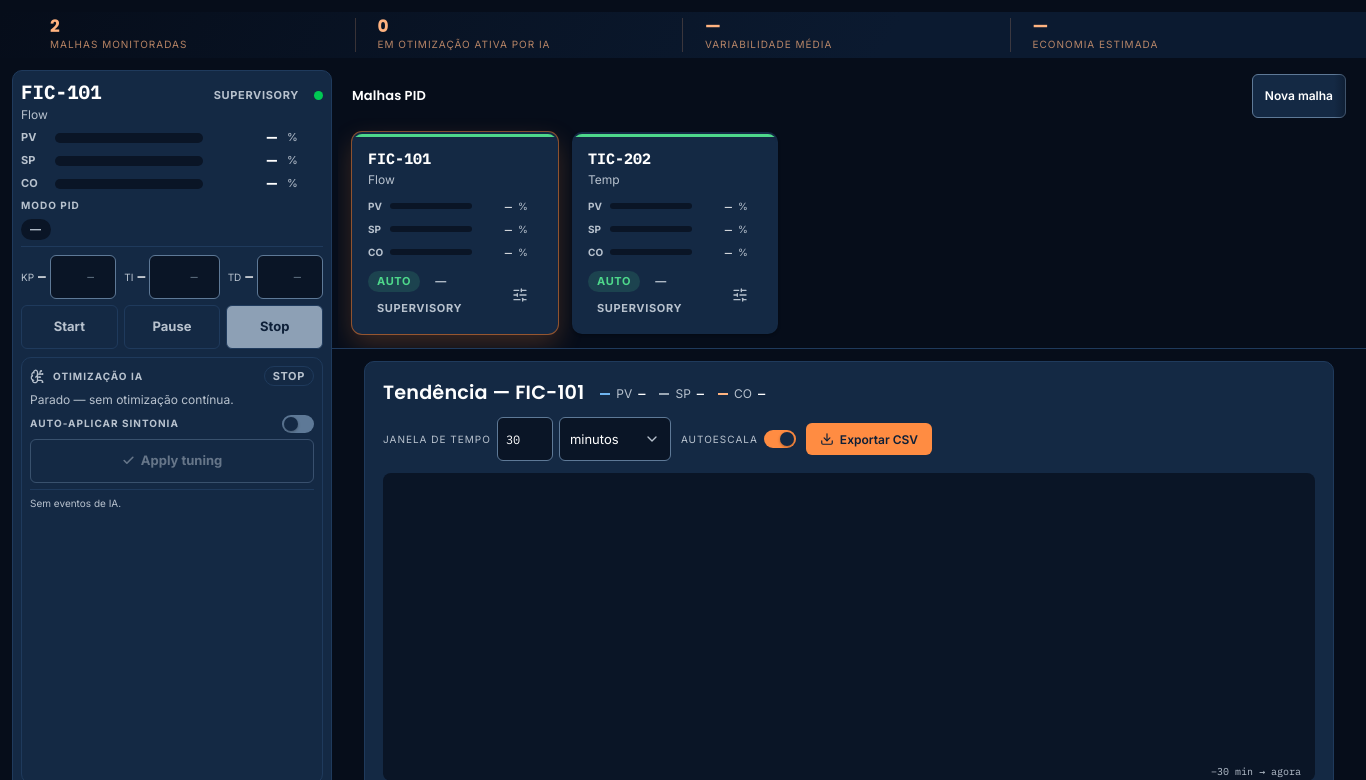
Test: DashboardPage › resets the faceplate drafts when the selection changes loop
Type "2.2" into the number field named "Escrever Kp". click: (83, 277)
box: [50,255,116,299]
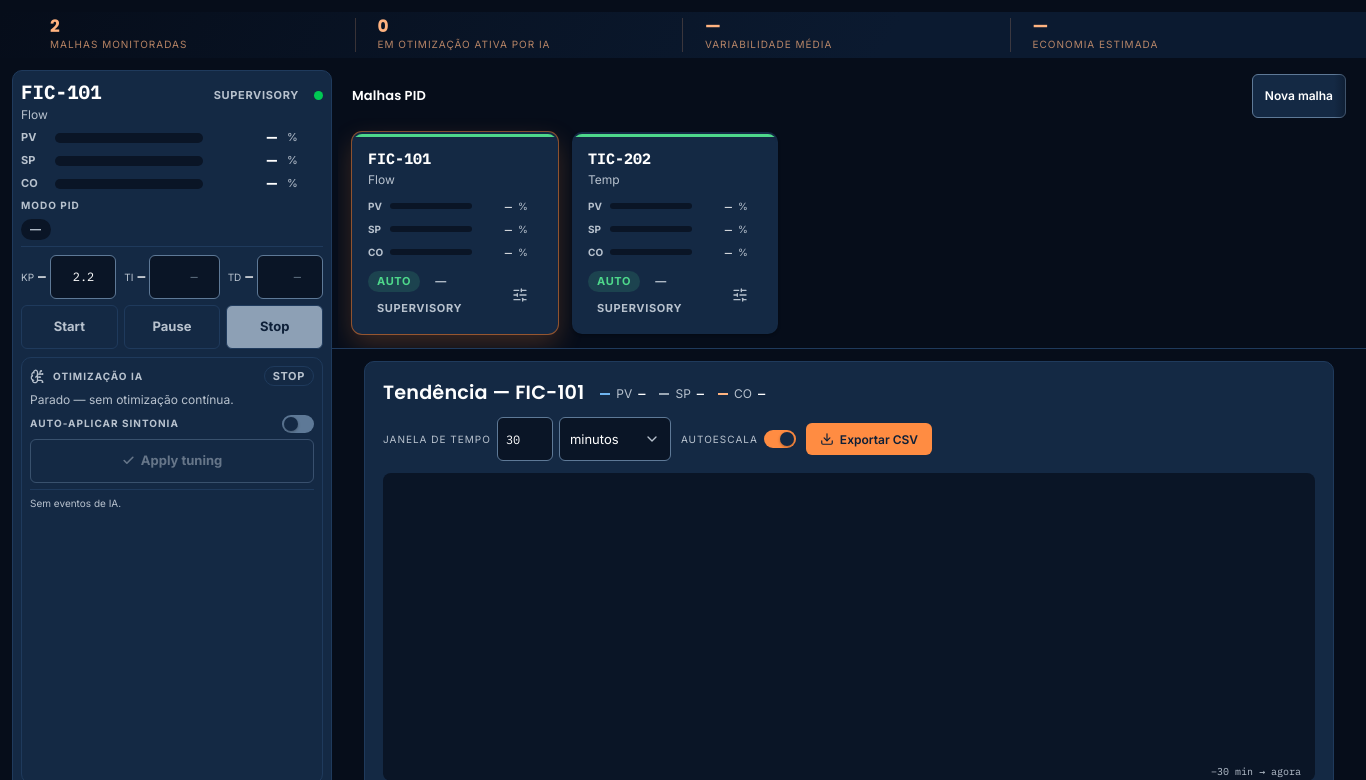
Click the button "TIC-202". click: (675, 233)
box: [572,132,778,334]
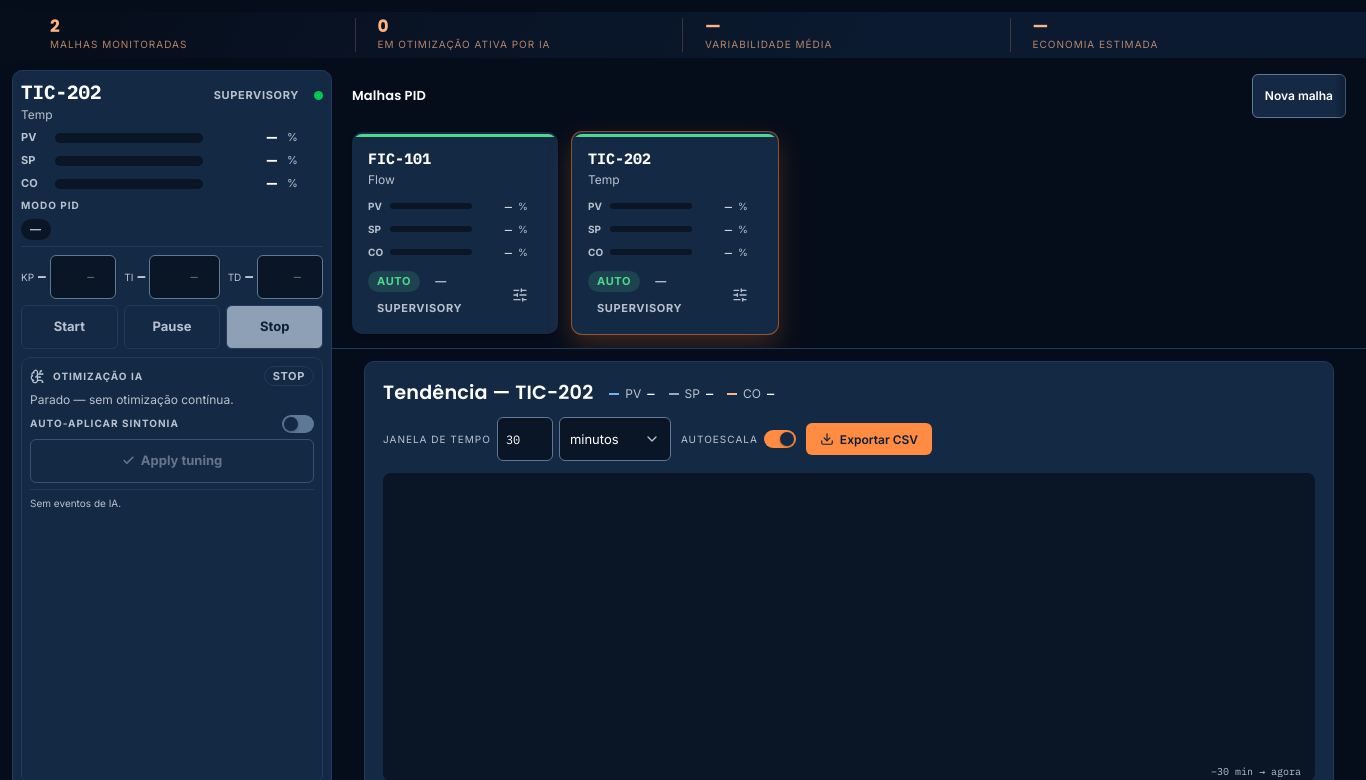
Expected: the number field named "Escrever Kp" is not empty, [50,255,116,299]
